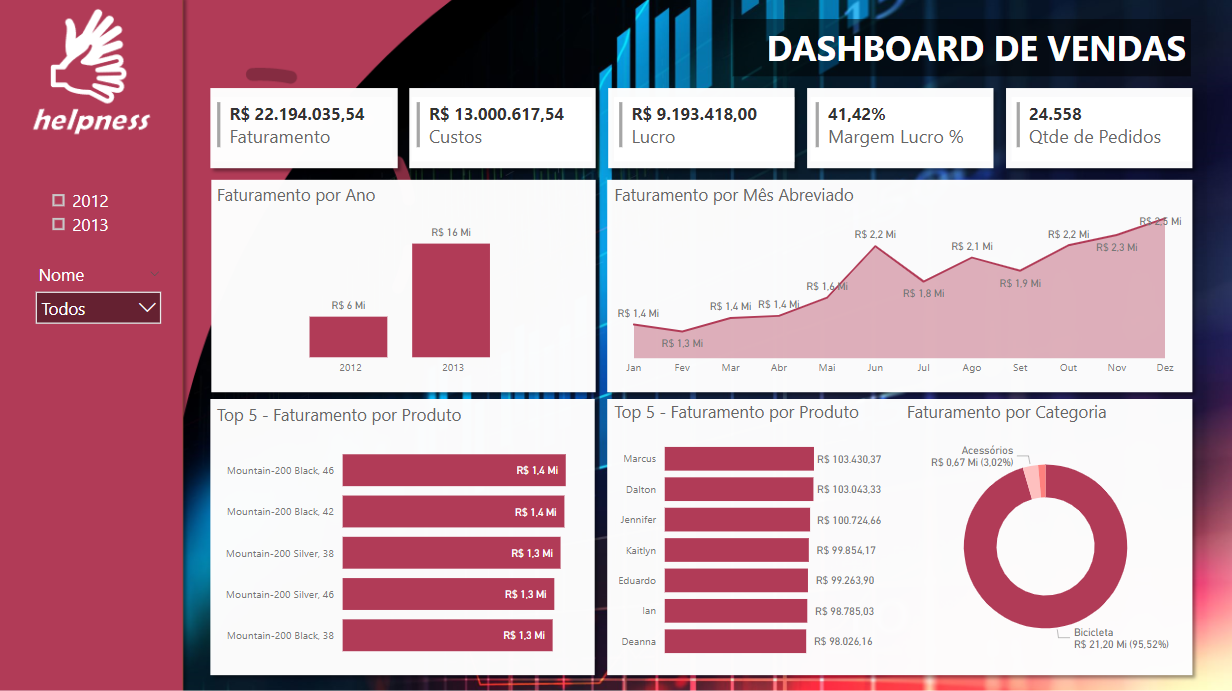

What the dashboard file says about the page in this screenshot:
{"tool":"powerbi","page":{"name":"Página 1","canvas":[1280,720],"ordinal":0},"visuals":[{"type":"multiRowCard","fields":{"Values":["Medidas.Faturamento"]},"box":[224.5,103.1,186.5,66.7],"z":0},{"type":"textbox","box":[762.8,21.2,474.7,59.1],"z":13},{"type":"clusteredBarChart","title":"Top 5 - Faturamento por Produto","fields":{"Category":["dProdutos.NomeProduto"],"Y":["Medidas.Faturamento"]},"box":[224.5,420.1,392.8,280.6],"z":1000},{"type":"donutChart","title":"Faturamento por Categoria","fields":{"Category":["dProdutos.NomeCategoriaProduto"],"Y":["Medidas.Faturamento"]},"box":[938.8,415.5,297.3,280.6],"z":2000},{"type":"slicer","fields":{"Values":["dCalendario.Ano"]},"box":[45.5,191.1,121.3,78.9],"z":3000},{"type":"slicer","fields":{"Values":["dClientes.Nome"]},"box":[30.3,268.4,150.1,89.5],"z":4000},{"type":"multiRowCard","fields":{"Values":["Medidas.Custos"]},"box":[430.7,103.1,186.5,66.7],"z":6000},{"type":"multiRowCard","fields":{"Values":["Medidas.Lucro"]},"box":[640,103.1,186.5,66.7],"z":7000},{"type":"multiRowCard","fields":{"Values":["Medidas.Qtde de Pedidos"]},"box":[1051,103.1,186.5,66.7],"z":8000},{"type":"multiRowCard","fields":{"Values":["Medidas.Margem Lucro %"]},"box":[843.2,103.1,186.5,66.7],"z":9000},{"type":"clusteredColumnChart","fields":{"Y":["Medidas.Faturamento"],"Category":["dCalendario.Ano"]},"box":[224.5,191.1,392.8,209.3],"z":10000},{"type":"areaChart","fields":{"Category":["dCalendario.Mês Abreviado"],"Y":["Medidas.Faturamento"]},"box":[635.5,191.1,600.6,209.3],"z":11000},{"type":"clusteredBarChart","title":"Top 5 - Faturamento por Produto","fields":{"Category":["dClientes.Nome"],"Y":["Medidas.Faturamento"]},"box":[635.5,415.5,286.6,280.6],"z":12000}]}

Visuals, with their boxes in screenshot pixels (x1, y1, x2, y2), scaled from the page's 1280x720 canvas onto the 1232x691 screenshot:
multiRowCard - Medidas.Faturamento: 216, 99, 396, 163
textbox: 734, 20, 1191, 77
"Top 5 - Faturamento por Produto" clusteredBarChart: 216, 403, 594, 672
"Faturamento por Categoria" donutChart: 904, 399, 1190, 668
slicer - dCalendario.Ano: 44, 183, 161, 259
slicer - dClientes.Nome: 29, 258, 174, 343
multiRowCard - Medidas.Custos: 415, 99, 594, 163
multiRowCard - Medidas.Lucro: 616, 99, 796, 163
multiRowCard - Medidas.Qtde de Pedidos: 1012, 99, 1191, 163
multiRowCard - Medidas.Margem Lucro %: 812, 99, 991, 163
clusteredColumnChart - Medidas.Faturamento x dCalendario.Ano: 216, 183, 594, 384
areaChart - dCalendario.Mês Abreviado x Medidas.Faturamento: 612, 183, 1190, 384
"Top 5 - Faturamento por Produto" clusteredBarChart: 612, 399, 888, 668
